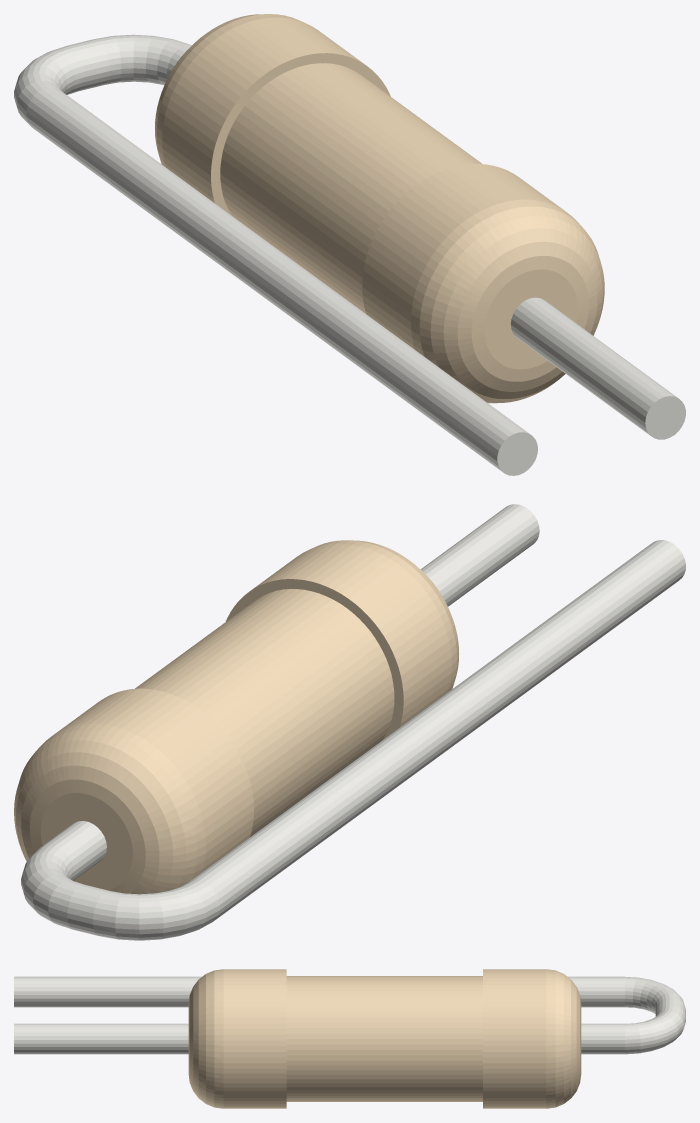
The model's file is R_Axial_DIN0309_L9.0mm_D3.2mm_P2.54mm_Vertical.glb.
3 views of the same model, one above another, from view 1: azimuth 30°, elevation 25°; view 2: azimuth 150°, elevation 25°; view 3: azimuth 270°, elevation 25° (orthographic). The views are drawn at different scales.
Visible parts, largest first — view 1: Shape_IndexedFaceSet.004, Shape_IndexedFaceSet.015, Shape_IndexedFaceSet.001, Shape_IndexedFaceSet.008, Shape_IndexedFaceSet, Shape_IndexedFaceSet.005, Shape_IndexedFaceSet.003, Shape_IndexedFaceSet.012, Shape_IndexedFaceSet.006, Shape_IndexedFaceSet.014, Shape_IndexedFaceSet.009, Shape_IndexedFaceSet.007 (+2 smaller); view 2: Shape_IndexedFaceSet.004, Shape_IndexedFaceSet.015, Shape_IndexedFaceSet.009, Shape_IndexedFaceSet, Shape_IndexedFaceSet.008, Shape_IndexedFaceSet.014, Shape_IndexedFaceSet.005, Shape_IndexedFaceSet.010, Shape_IndexedFaceSet.012, Shape_IndexedFaceSet.002, Shape_IndexedFaceSet.001, Shape_IndexedFaceSet.011 (+1 smaller); view 3: Shape_IndexedFaceSet.004, Shape_IndexedFaceSet, Shape_IndexedFaceSet.008, Shape_IndexedFaceSet.015, Shape_IndexedFaceSet.005, Shape_IndexedFaceSet.001, Shape_IndexedFaceSet.009, Shape_IndexedFaceSet.012, Shape_IndexedFaceSet.011, Shape_IndexedFaceSet.014, Shape_IndexedFaceSet.013.
Boxes of the visible parts, left/top/right/bottom form: Shape_IndexedFaceSet.004: left=220, top=63, right=481, bottom=313; Shape_IndexedFaceSet.015: left=26, top=87, right=529, bottom=471; Shape_IndexedFaceSet.001: left=411, top=199, right=604, bottom=403; Shape_IndexedFaceSet.008: left=162, top=17, right=364, bottom=202; Shape_IndexedFaceSet: left=362, top=164, right=565, bottom=349; Shape_IndexedFaceSet.005: left=510, top=297, right=677, bottom=435; Shape_IndexedFaceSet.003: left=484, top=269, right=577, bottom=369; Shape_IndexedFaceSet.012: left=94, top=34, right=191, bottom=85; Shape_IndexedFaceSet.006: left=211, top=53, right=390, bottom=215; Shape_IndexedFaceSet.014: left=14, top=45, right=84, bottom=124; Shape_IndexedFaceSet.009: left=155, top=14, right=303, bottom=167; Shape_IndexedFaceSet.007: left=645, top=396, right=685, bottom=439; Shape_IndexedFaceSet.004: left=135, top=589, right=394, bottom=836; Shape_IndexedFaceSet.015: left=188, top=540, right=685, bottom=921; Shape_IndexedFaceSet.009: left=14, top=724, right=205, bottom=894; Shape_IndexedFaceSet: left=252, top=543, right=451, bottom=726; Shape_IndexedFaceSet.008: left=54, top=688, right=253, bottom=871; Shape_IndexedFaceSet.014: left=93, top=881, right=219, bottom=940; Shape_IndexedFaceSet.005: left=421, top=504, right=539, bottom=606; Shape_IndexedFaceSet.010: left=40, top=793, right=132, bottom=890; Shape_IndexedFaceSet.012: left=21, top=845, right=83, bottom=929; Shape_IndexedFaceSet.002: left=225, top=579, right=403, bottom=739; Shape_IndexedFaceSet.001: left=312, top=540, right=458, bottom=691; Shape_IndexedFaceSet.011: left=42, top=821, right=106, bottom=880; Shape_IndexedFaceSet.004: left=286, top=976, right=482, bottom=1101; Shape_IndexedFaceSet: left=223, top=969, right=286, bottom=1108; Shape_IndexedFaceSet.008: left=483, top=969, right=546, bottom=1108; Shape_IndexedFaceSet.015: left=14, top=976, right=624, bottom=1007; Shape_IndexedFaceSet.005: left=14, top=1023, right=188, bottom=1054; Shape_IndexedFaceSet.001: left=188, top=969, right=223, bottom=1108; Shape_IndexedFaceSet.009: left=546, top=969, right=581, bottom=1108; Shape_IndexedFaceSet.012: left=625, top=1006, right=685, bottom=1054; Shape_IndexedFaceSet.011: left=581, top=1023, right=624, bottom=1054; Shape_IndexedFaceSet.014: left=625, top=977, right=684, bottom=1013; Shape_IndexedFaceSet.013: left=655, top=997, right=685, bottom=1016.
Size of the model in its own units: 1.77 by 1.26 by 6.06.
